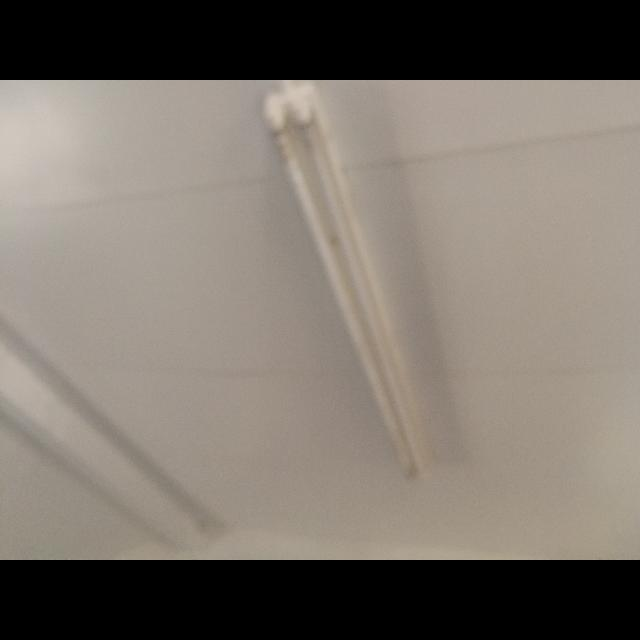Straight-Tube-Fluorescent-Lamp: (214, 80, 450, 488)
